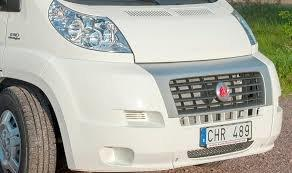license-plates: (201, 123, 253, 148)
